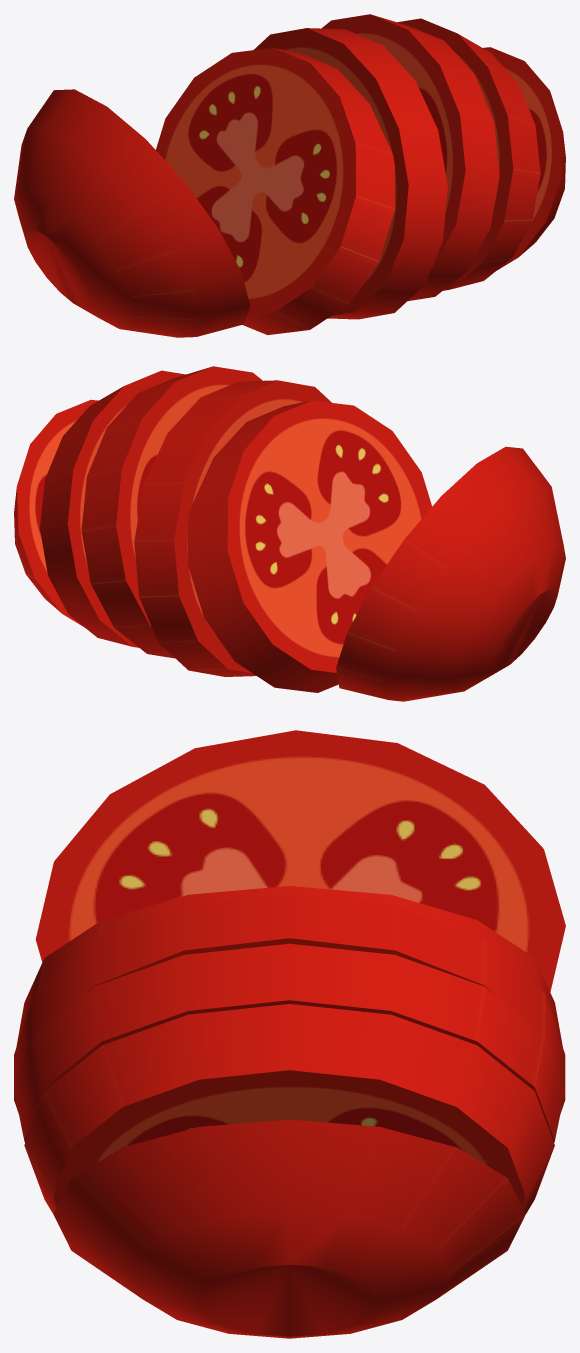
Rendered from Tomato_01_S5.fbx.
3 views of the same model, one above another, from view 1: azimuth 30°, elevation 25°; view 2: azimuth 150°, elevation 25°; view 3: azimuth 270°, elevation 25° (orthographic). The views are drawn at different scales.
Visible parts, largest first — view 1: Tomato_01_S5; view 2: Tomato_01_S5; view 3: Tomato_01_S5.
Part boxes in pixels (x1,y1,x2,y2): Tomato_01_S5: (14,14,565,337); Tomato_01_S5: (14,366,565,701); Tomato_01_S5: (14,730,565,1338).
Size of the model in its own units: 49.19 by 24.26 by 31.47.
